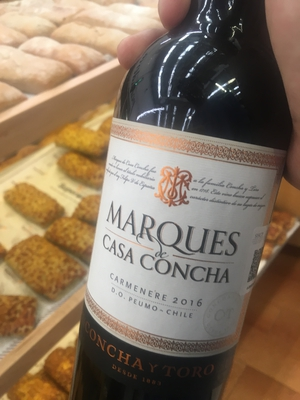marques de casa concha carmenere: (76, 24, 284, 400)
